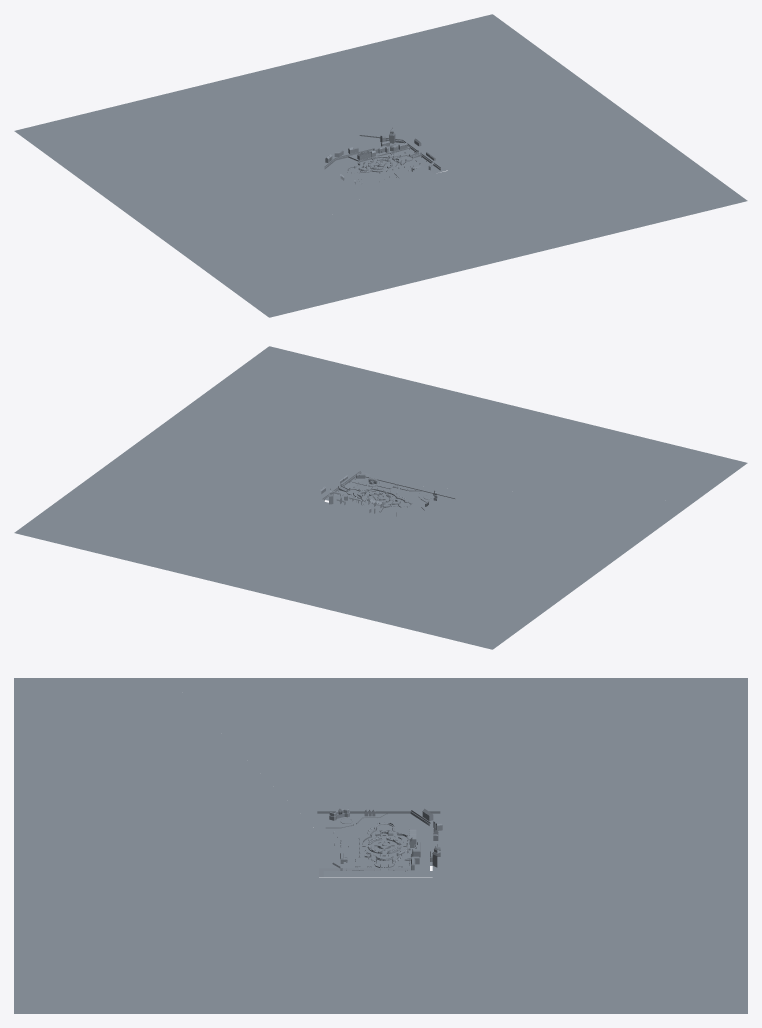
The model's file is gltf__Models__map__Village__circlePark__circlePark_mergedScene_oneMesh.glb.
The picture shows the model from 3 angles, top to bottom: view 1: azimuth 30°, elevation 25°; view 2: azimuth 150°, elevation 25°; view 3: azimuth 270°, elevation 25°; orthographic projection. The views are drawn at different scales.
Parts seen in each view (by area): view 1: circlePark_mergedScene_oneMesh; view 2: circlePark_mergedScene_oneMesh; view 3: circlePark_mergedScene_oneMesh.
Boxes of the visible parts, x1,y1,x2,y2 form: circlePark_mergedScene_oneMesh: (14, 14, 747, 317); circlePark_mergedScene_oneMesh: (14, 346, 747, 649); circlePark_mergedScene_oneMesh: (14, 678, 747, 1013).
Size of the model in its own units: 712 by 24.89 by 658.
Materials: 7 (7 with a texture image).
